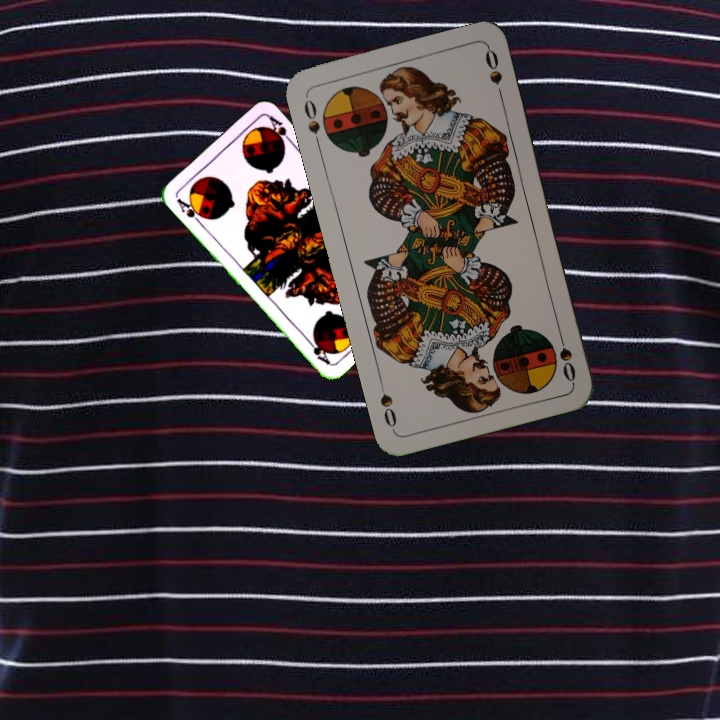SA: (172, 194, 209, 227)
SO: (554, 326, 579, 385), (300, 92, 324, 151)
